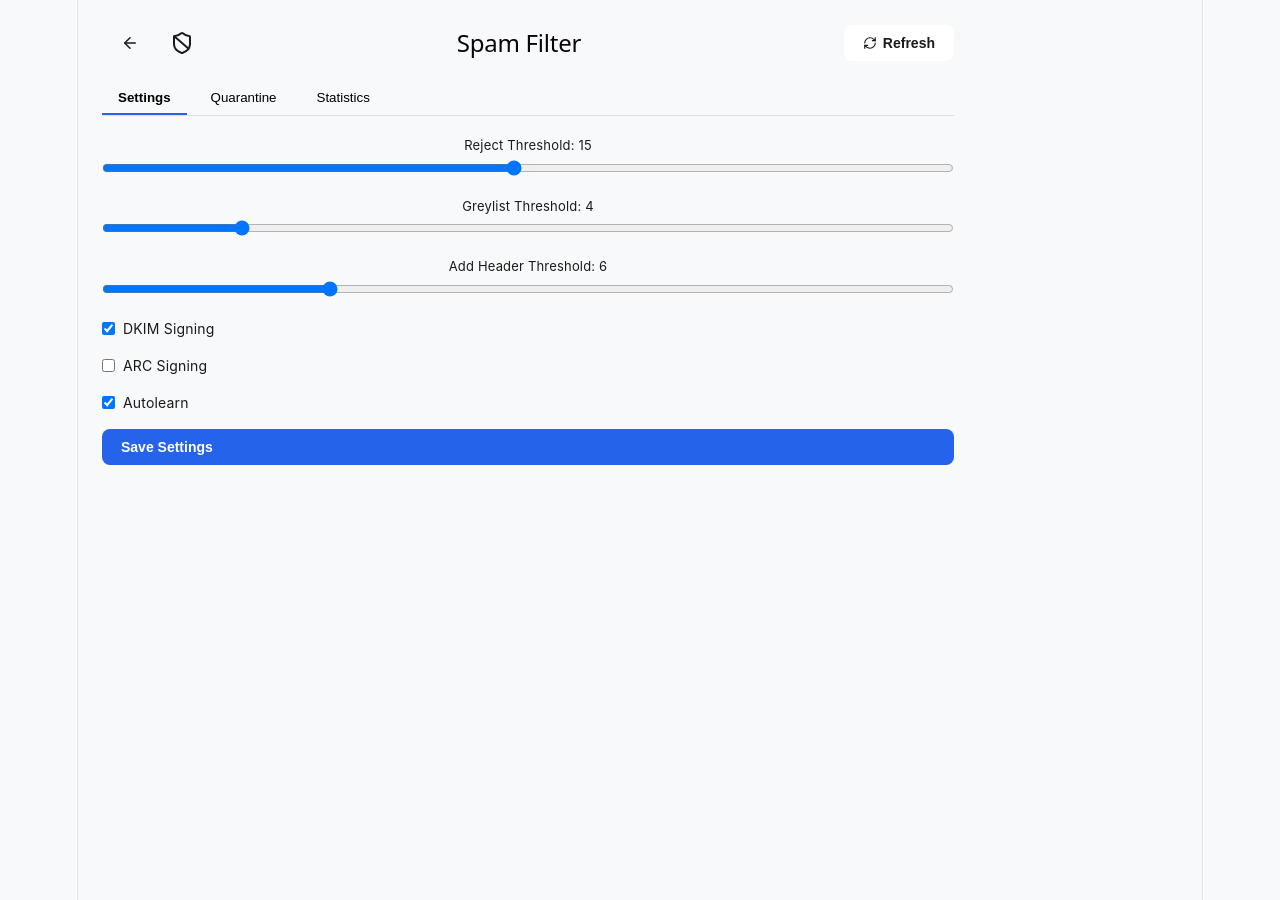
Test: SpamFilterManager › renders quarantine items with release and delete buttons
This screenshot has width=1280, height=900.
Expected: the heading "Spam Filter" is shown, [457, 26, 581, 59]
Click the button "quarantine" at (244, 98), box [195, 82, 293, 115]
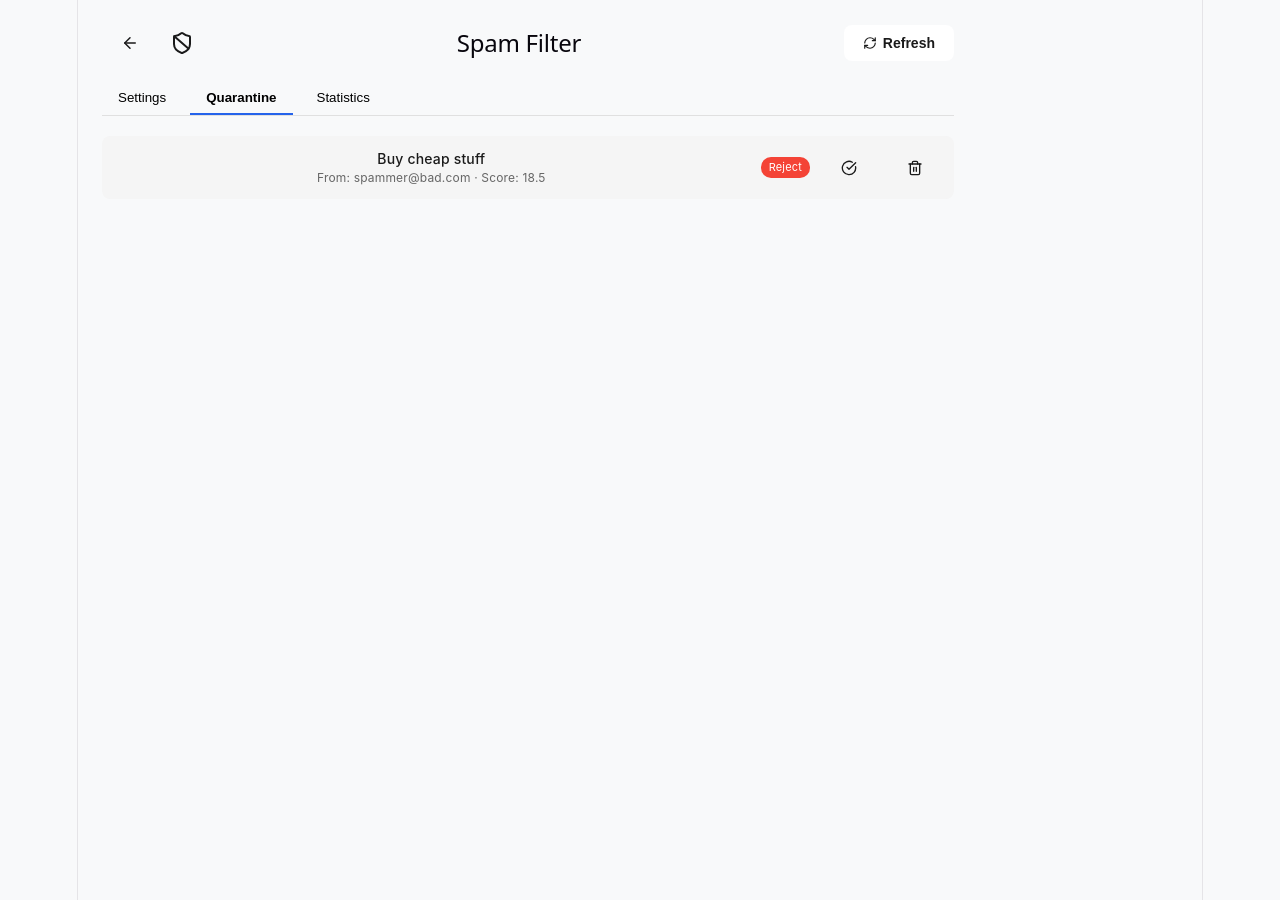
Now the text "Buy cheap stuff" is shown, box [377, 150, 485, 167]
Now the text "From: spammer@bad.com · Score: 18.5" is shown, box [317, 170, 546, 185]
Now the button titled "Release" is shown, box [822, 150, 876, 186]
